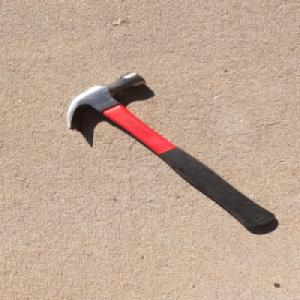Hammer: (63, 69, 279, 229)
